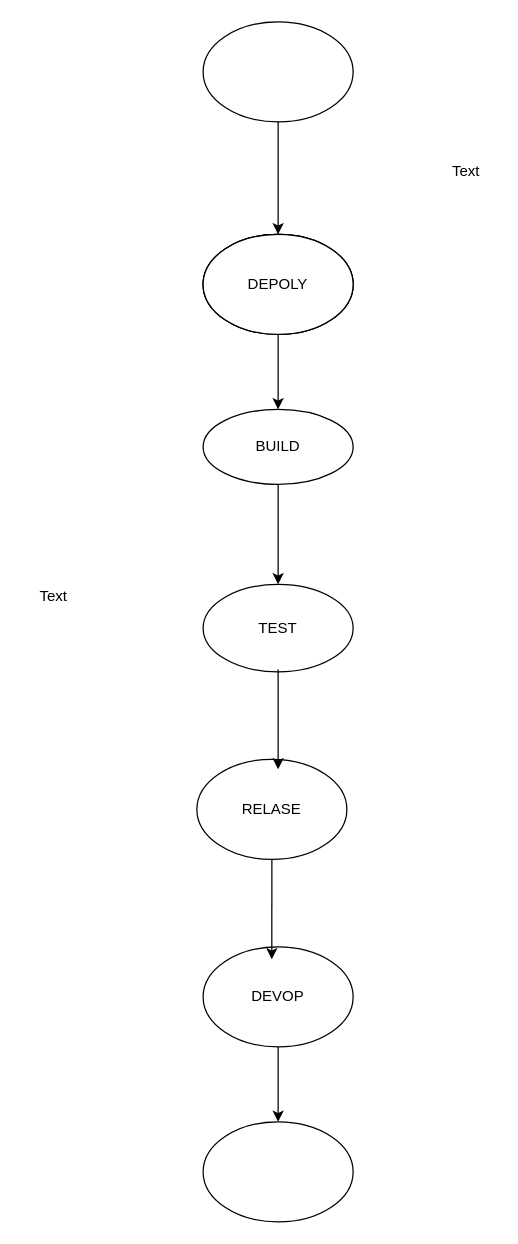
Image size: 518x1244. Some labels were removed from this diagram. The box of each missing label's shape, as (x1, y1, x2, y2) in pixels:
MONITOR: (202, 1121, 353, 1222)
PLAN: (202, 21, 353, 122)
